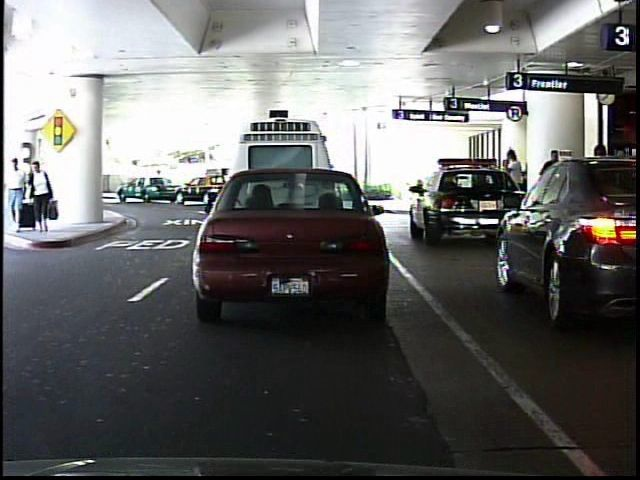person: (499, 144, 530, 230), (26, 156, 55, 235), (4, 154, 28, 231), (150, 166, 168, 199), (538, 142, 562, 165)
